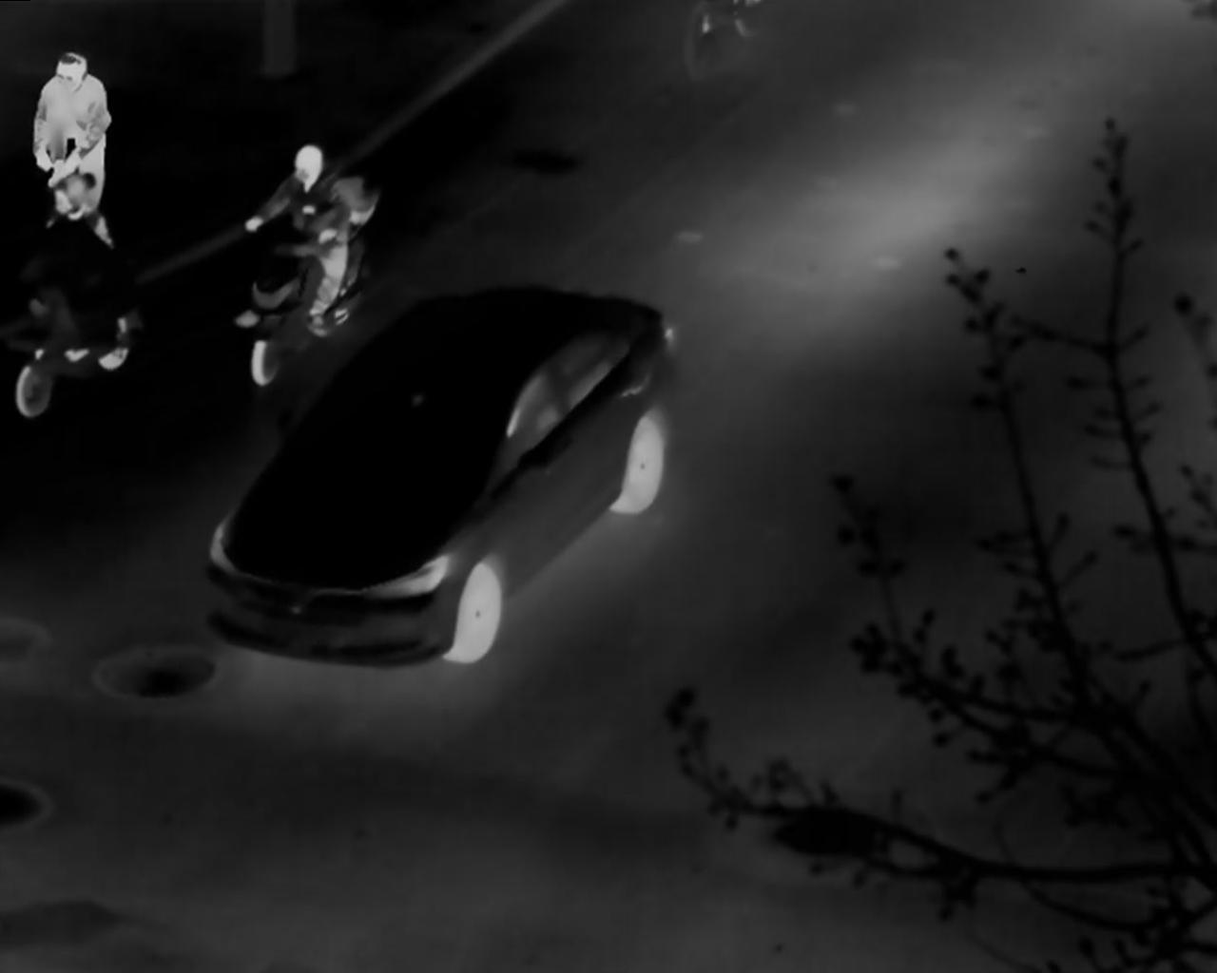person: (242, 138, 351, 340), (30, 52, 111, 219)
